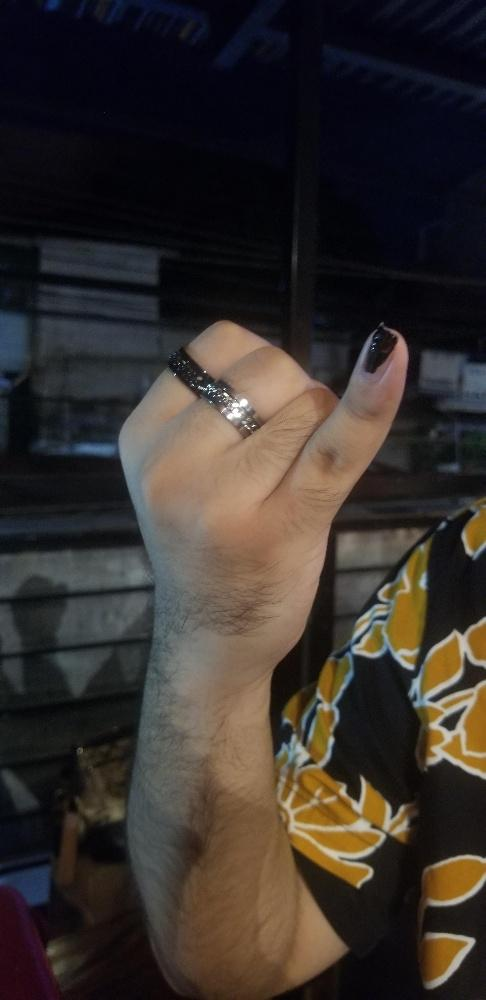j: (116, 309, 408, 655)
